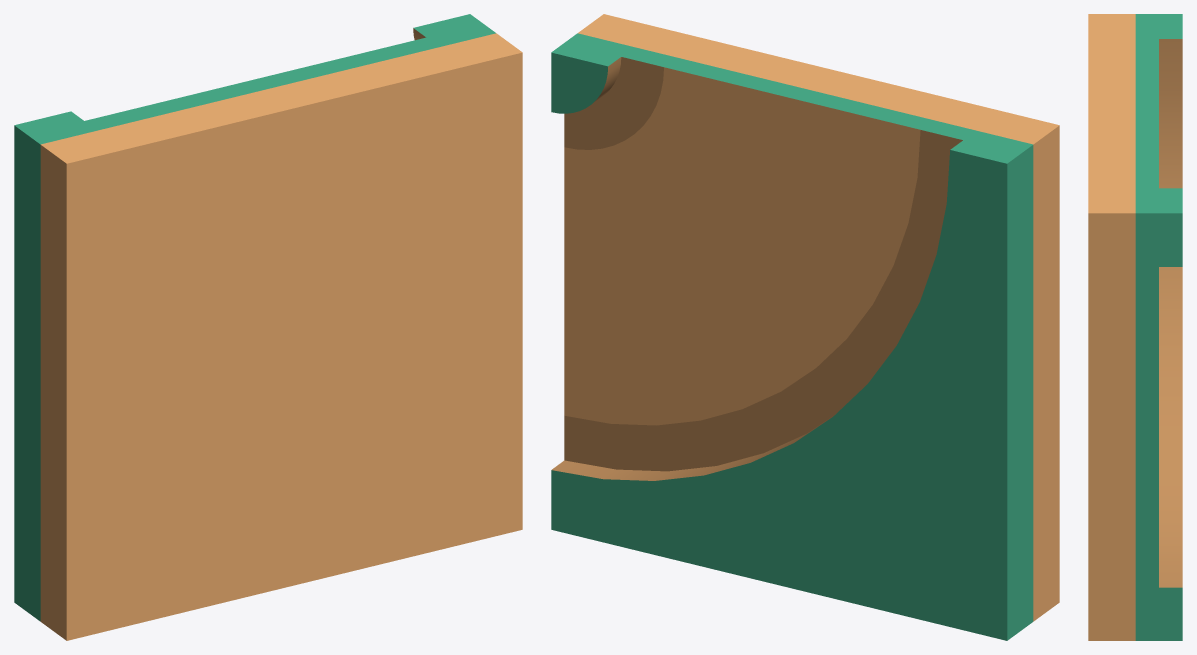
The model's file is tile_cornerRound.obj.
3 views of the same model, side by side, from view 1: azimuth 30°, elevation 25°; view 2: azimuth 150°, elevation 25°; view 3: azimuth 270°, elevation 25° (orthographic). The views are drawn at different scales.
Parts seen in each view (by area): view 1: tile_cornerRound; view 2: tile_cornerRound; view 3: tile_cornerRound.
Part boxes in pixels (x1,y1,x2,y2): tile_cornerRound: [14, 14, 522, 640]; tile_cornerRound: [551, 14, 1059, 640]; tile_cornerRound: [1088, 14, 1182, 640].
Bounding box in the file's own units: 1 × 1 × 0.2.
